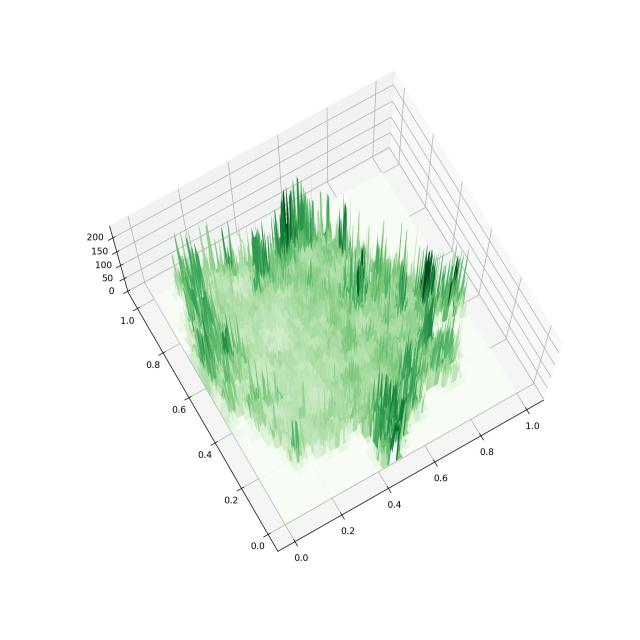fir: (61, 50, 595, 583)
